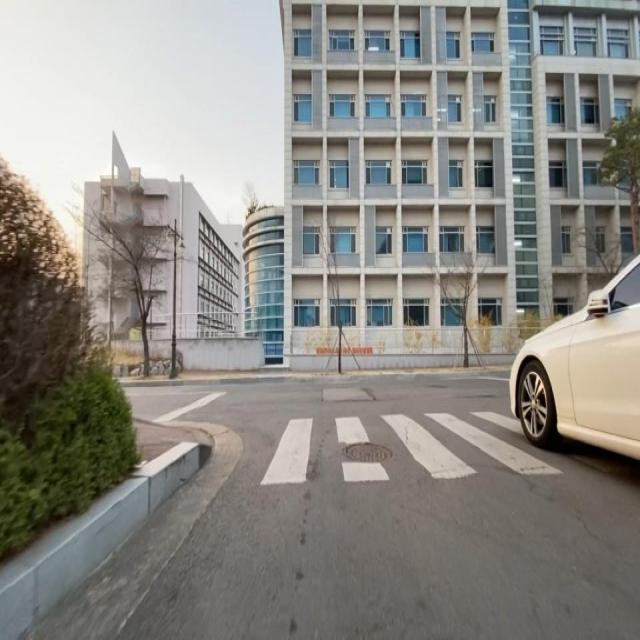sidewalk: (179, 366, 509, 379), (134, 419, 215, 464), (120, 373, 170, 383)
